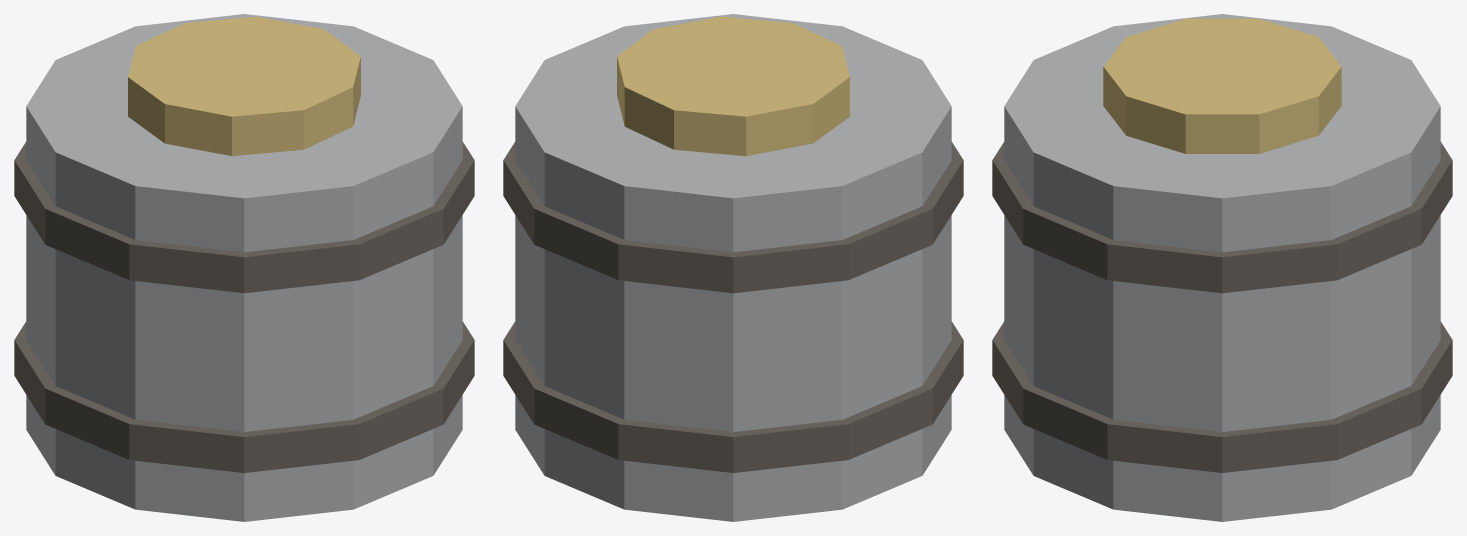
The model's file is item-ammo.glb.
3 views of the same model, side by side, from view 1: azimuth 30°, elevation 25°; view 2: azimuth 150°, elevation 25°; view 3: azimuth 270°, elevation 25° (orthographic).
Visible parts, largest first — view 1: item-ammo; view 2: item-ammo; view 3: item-ammo.
Boxes of the visible parts, x1=… form: item-ammo: x1=14, y1=14, x2=474, y2=521; item-ammo: x1=503, y1=14, x2=963, y2=521; item-ammo: x1=992, y1=14, x2=1452, y2=521.
Bounding box in the file's own units: 1.16 × 1.01 × 1.16.
